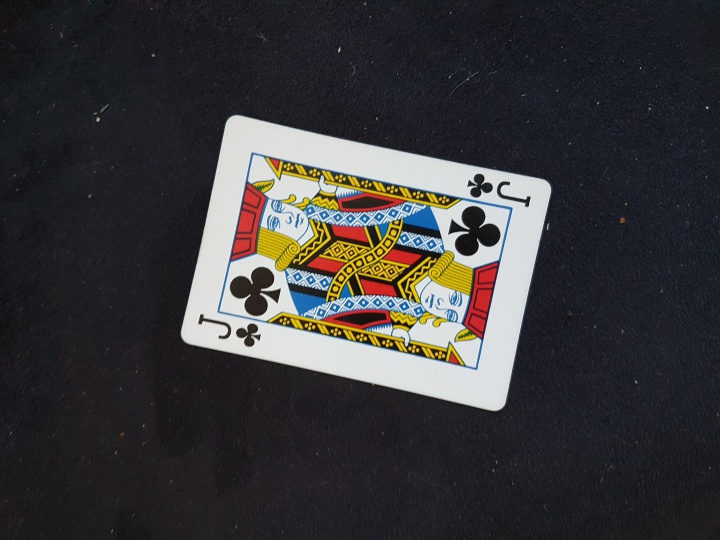jack: (163, 107, 560, 440)
